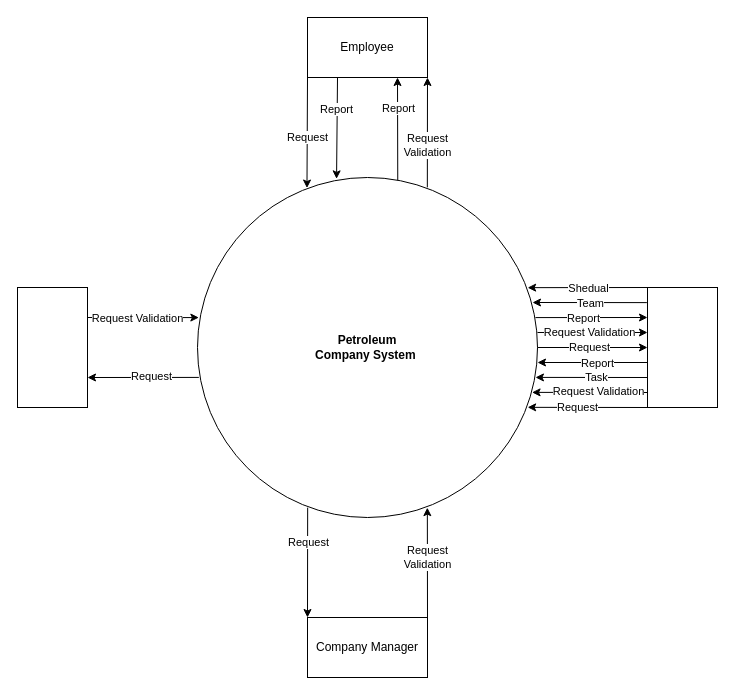
Some shapes in this 735 by 695 pixel diagram are drawn without their labels. The box of each missing label's shape, as (x1, y1, x2, y2) in pixels:
Department: (646, 286, 718, 408)
External Company: (16, 286, 88, 408)
